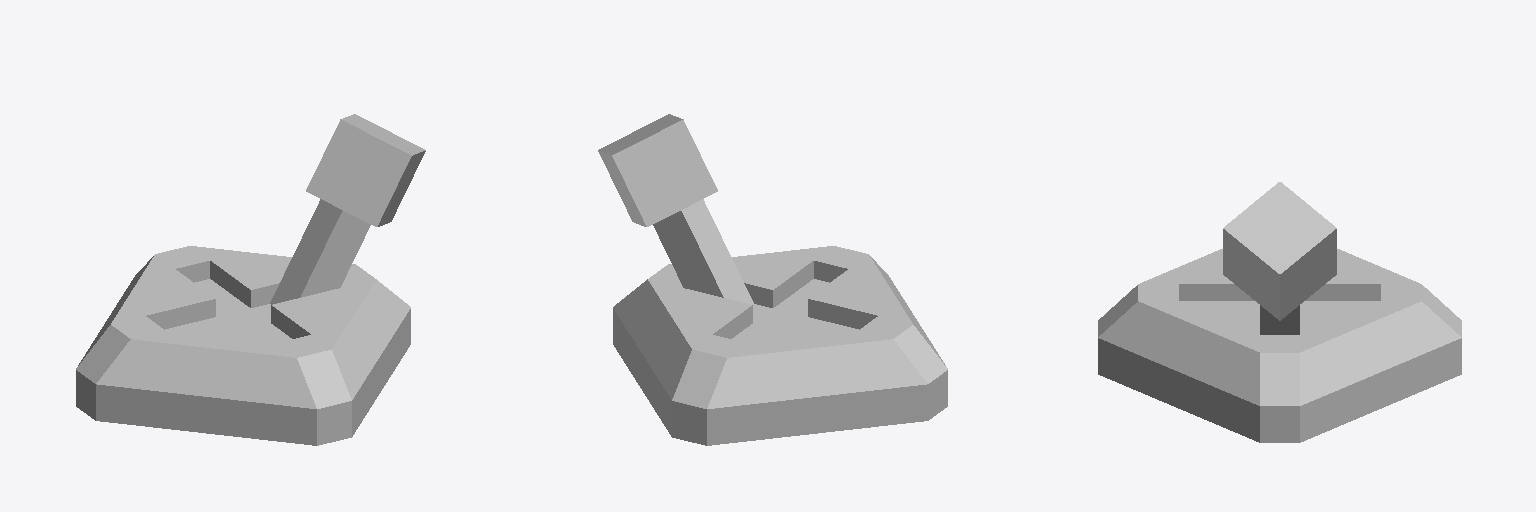
Rendered from lever_5state_4.obj.
3 renders of one model, left to right at view 1: azimuth 30°, elevation 25°; view 2: azimuth 150°, elevation 25°; view 3: azimuth 270°, elevation 25°, orthographic.
Parts seen in each view (by area): view 1: 5-STATE_Circle.004, LEVER_Cube.049; view 2: 5-STATE_Circle.004, LEVER_Cube.049; view 3: 5-STATE_Circle.004, LEVER_Cube.049.
Part boxes in pixels (bbox=[...]): 5-STATE_Circle.004: bbox=[76, 246, 410, 445]; LEVER_Cube.049: bbox=[270, 114, 425, 304]; 5-STATE_Circle.004: bbox=[613, 246, 947, 445]; LEVER_Cube.049: bbox=[598, 114, 753, 304]; 5-STATE_Circle.004: bbox=[1098, 249, 1461, 442]; LEVER_Cube.049: bbox=[1223, 182, 1336, 334].
Bounding box in the file's own units: 0.6083 × 0.396 × 0.5635.